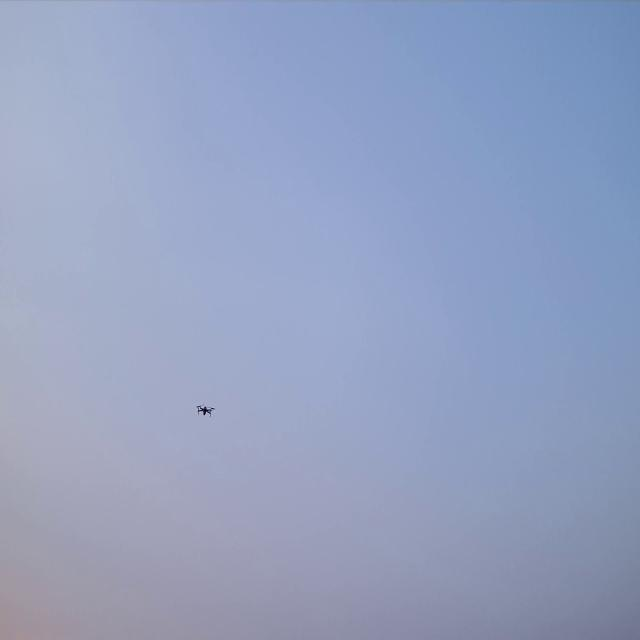UAV: (195, 402, 216, 418)
